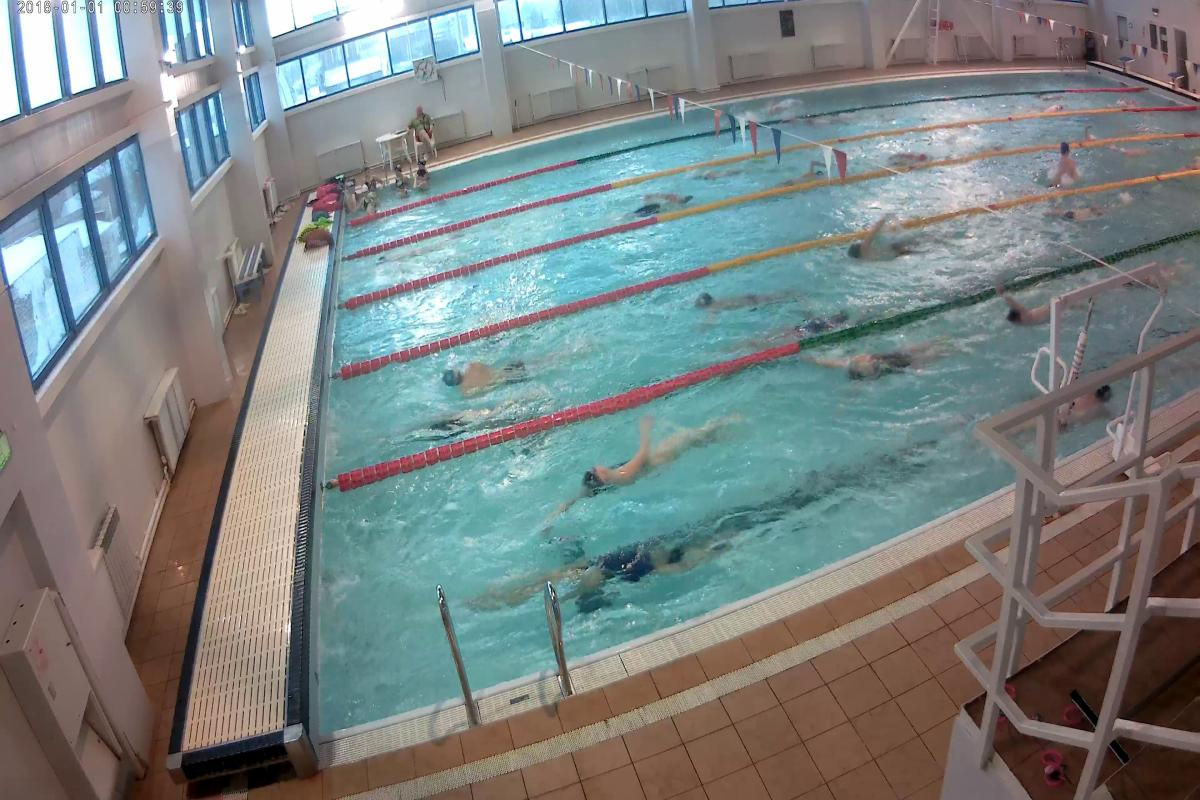swimmer: (560, 422, 726, 506), (510, 543, 709, 590), (411, 353, 547, 397), (828, 348, 931, 391), (687, 270, 793, 310), (838, 233, 916, 266), (783, 308, 852, 343), (998, 294, 1060, 332), (630, 188, 694, 216), (1046, 192, 1107, 221), (1048, 139, 1084, 186), (1073, 387, 1113, 427), (789, 156, 829, 188), (886, 142, 928, 166), (699, 164, 738, 180)
